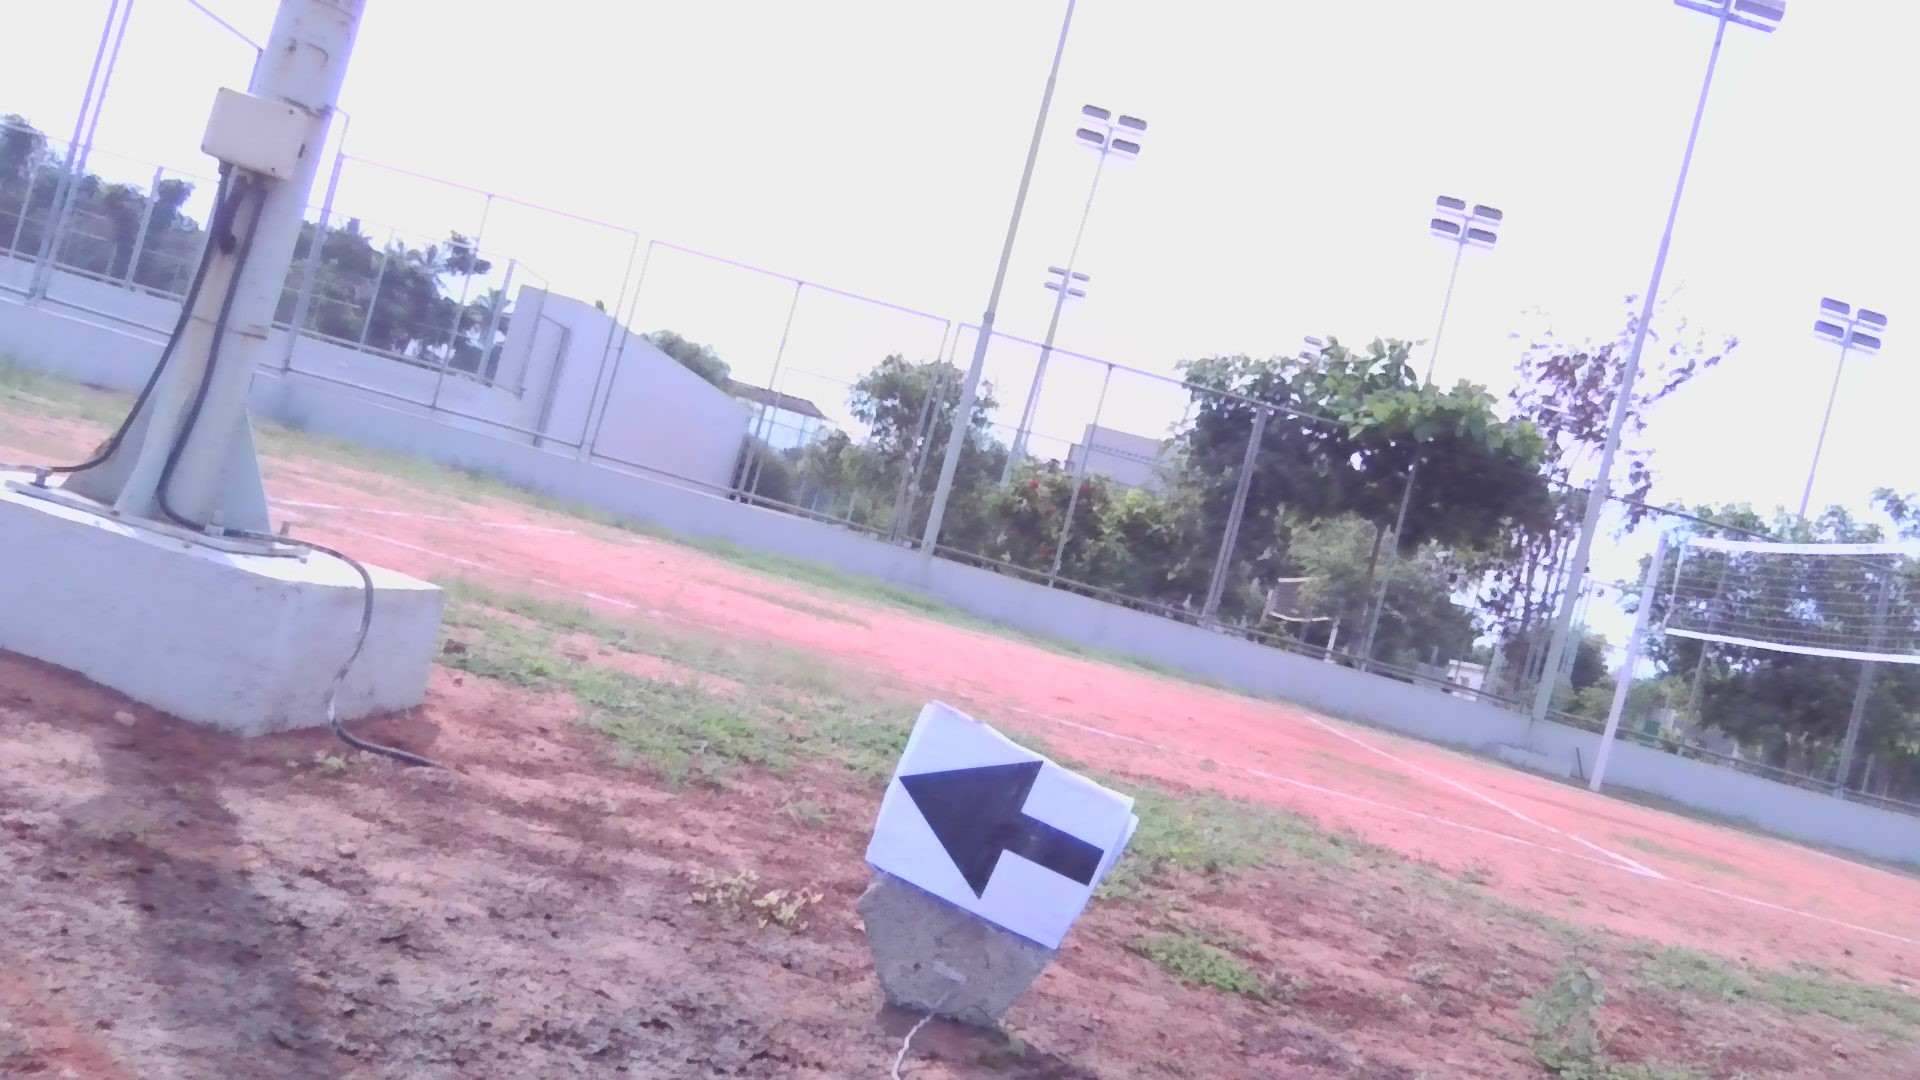leftDir: (884, 702, 1127, 928)
